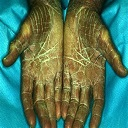Pityriasis Rubra Pilaris: (29, 14, 104, 121)
